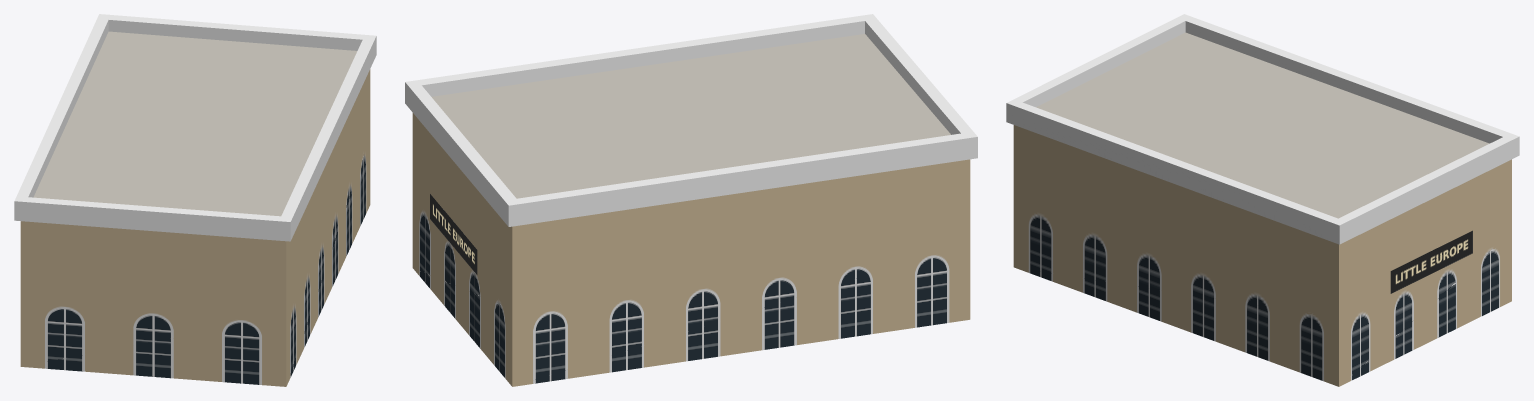
Rendered from littleeurope.glb.
3 renders of one model, left to right at view 1: azimuth 30°, elevation 25°; view 2: azimuth 150°, elevation 25°; view 3: azimuth 270°, elevation 25°, orthographic. The views are drawn at different scales.
Parts seen in each view (by area): view 1: littleeurope_lod0; view 2: littleeurope_lod0; view 3: littleeurope_lod0.
Part boxes in pixels (box(x1,y1,x2,y2)): littleeurope_lod0: box(14, 14, 376, 386); littleeurope_lod0: box(405, 14, 977, 386); littleeurope_lod0: box(1006, 14, 1519, 386).
Size of what is drawn, in the model's own units: 23.71 by 8.6 by 24.3.
5 materials, 2 textured.
